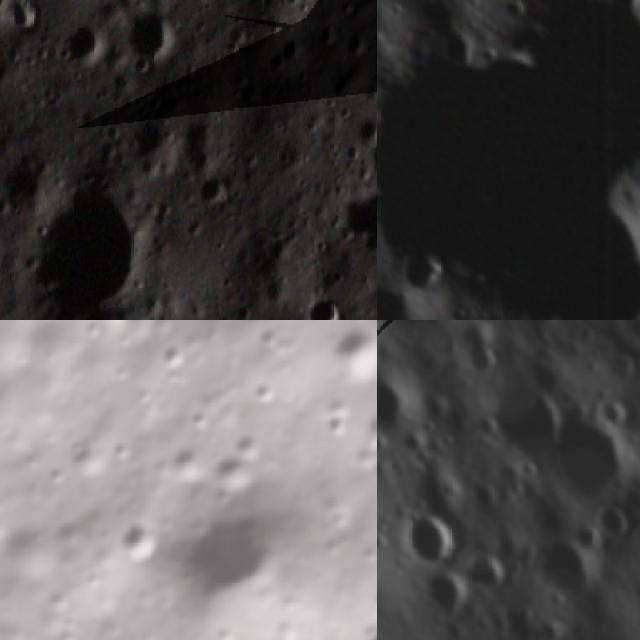crater: (164, 484, 305, 626), (16, 179, 155, 320), (382, 497, 468, 582), (488, 366, 574, 451), (417, 566, 493, 640), (316, 320, 377, 395), (106, 507, 169, 573), (377, 357, 426, 436), (48, 14, 108, 75), (118, 6, 176, 63), (449, 329, 502, 382), (220, 424, 272, 476), (340, 184, 377, 255), (470, 544, 517, 593), (397, 251, 448, 292), (590, 391, 634, 437), (128, 118, 170, 165), (592, 500, 635, 545), (150, 341, 193, 381), (35, 459, 75, 497), (308, 288, 352, 320), (193, 171, 230, 209), (319, 409, 353, 444), (176, 406, 211, 440), (128, 383, 159, 414), (611, 320, 640, 353), (249, 380, 277, 410), (82, 320, 109, 347), (497, 0, 528, 21), (609, 0, 640, 10)
